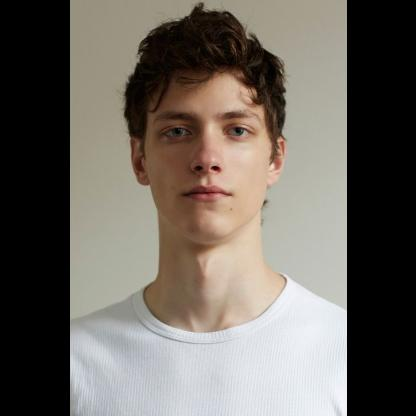Male: (129, 71, 283, 237)
